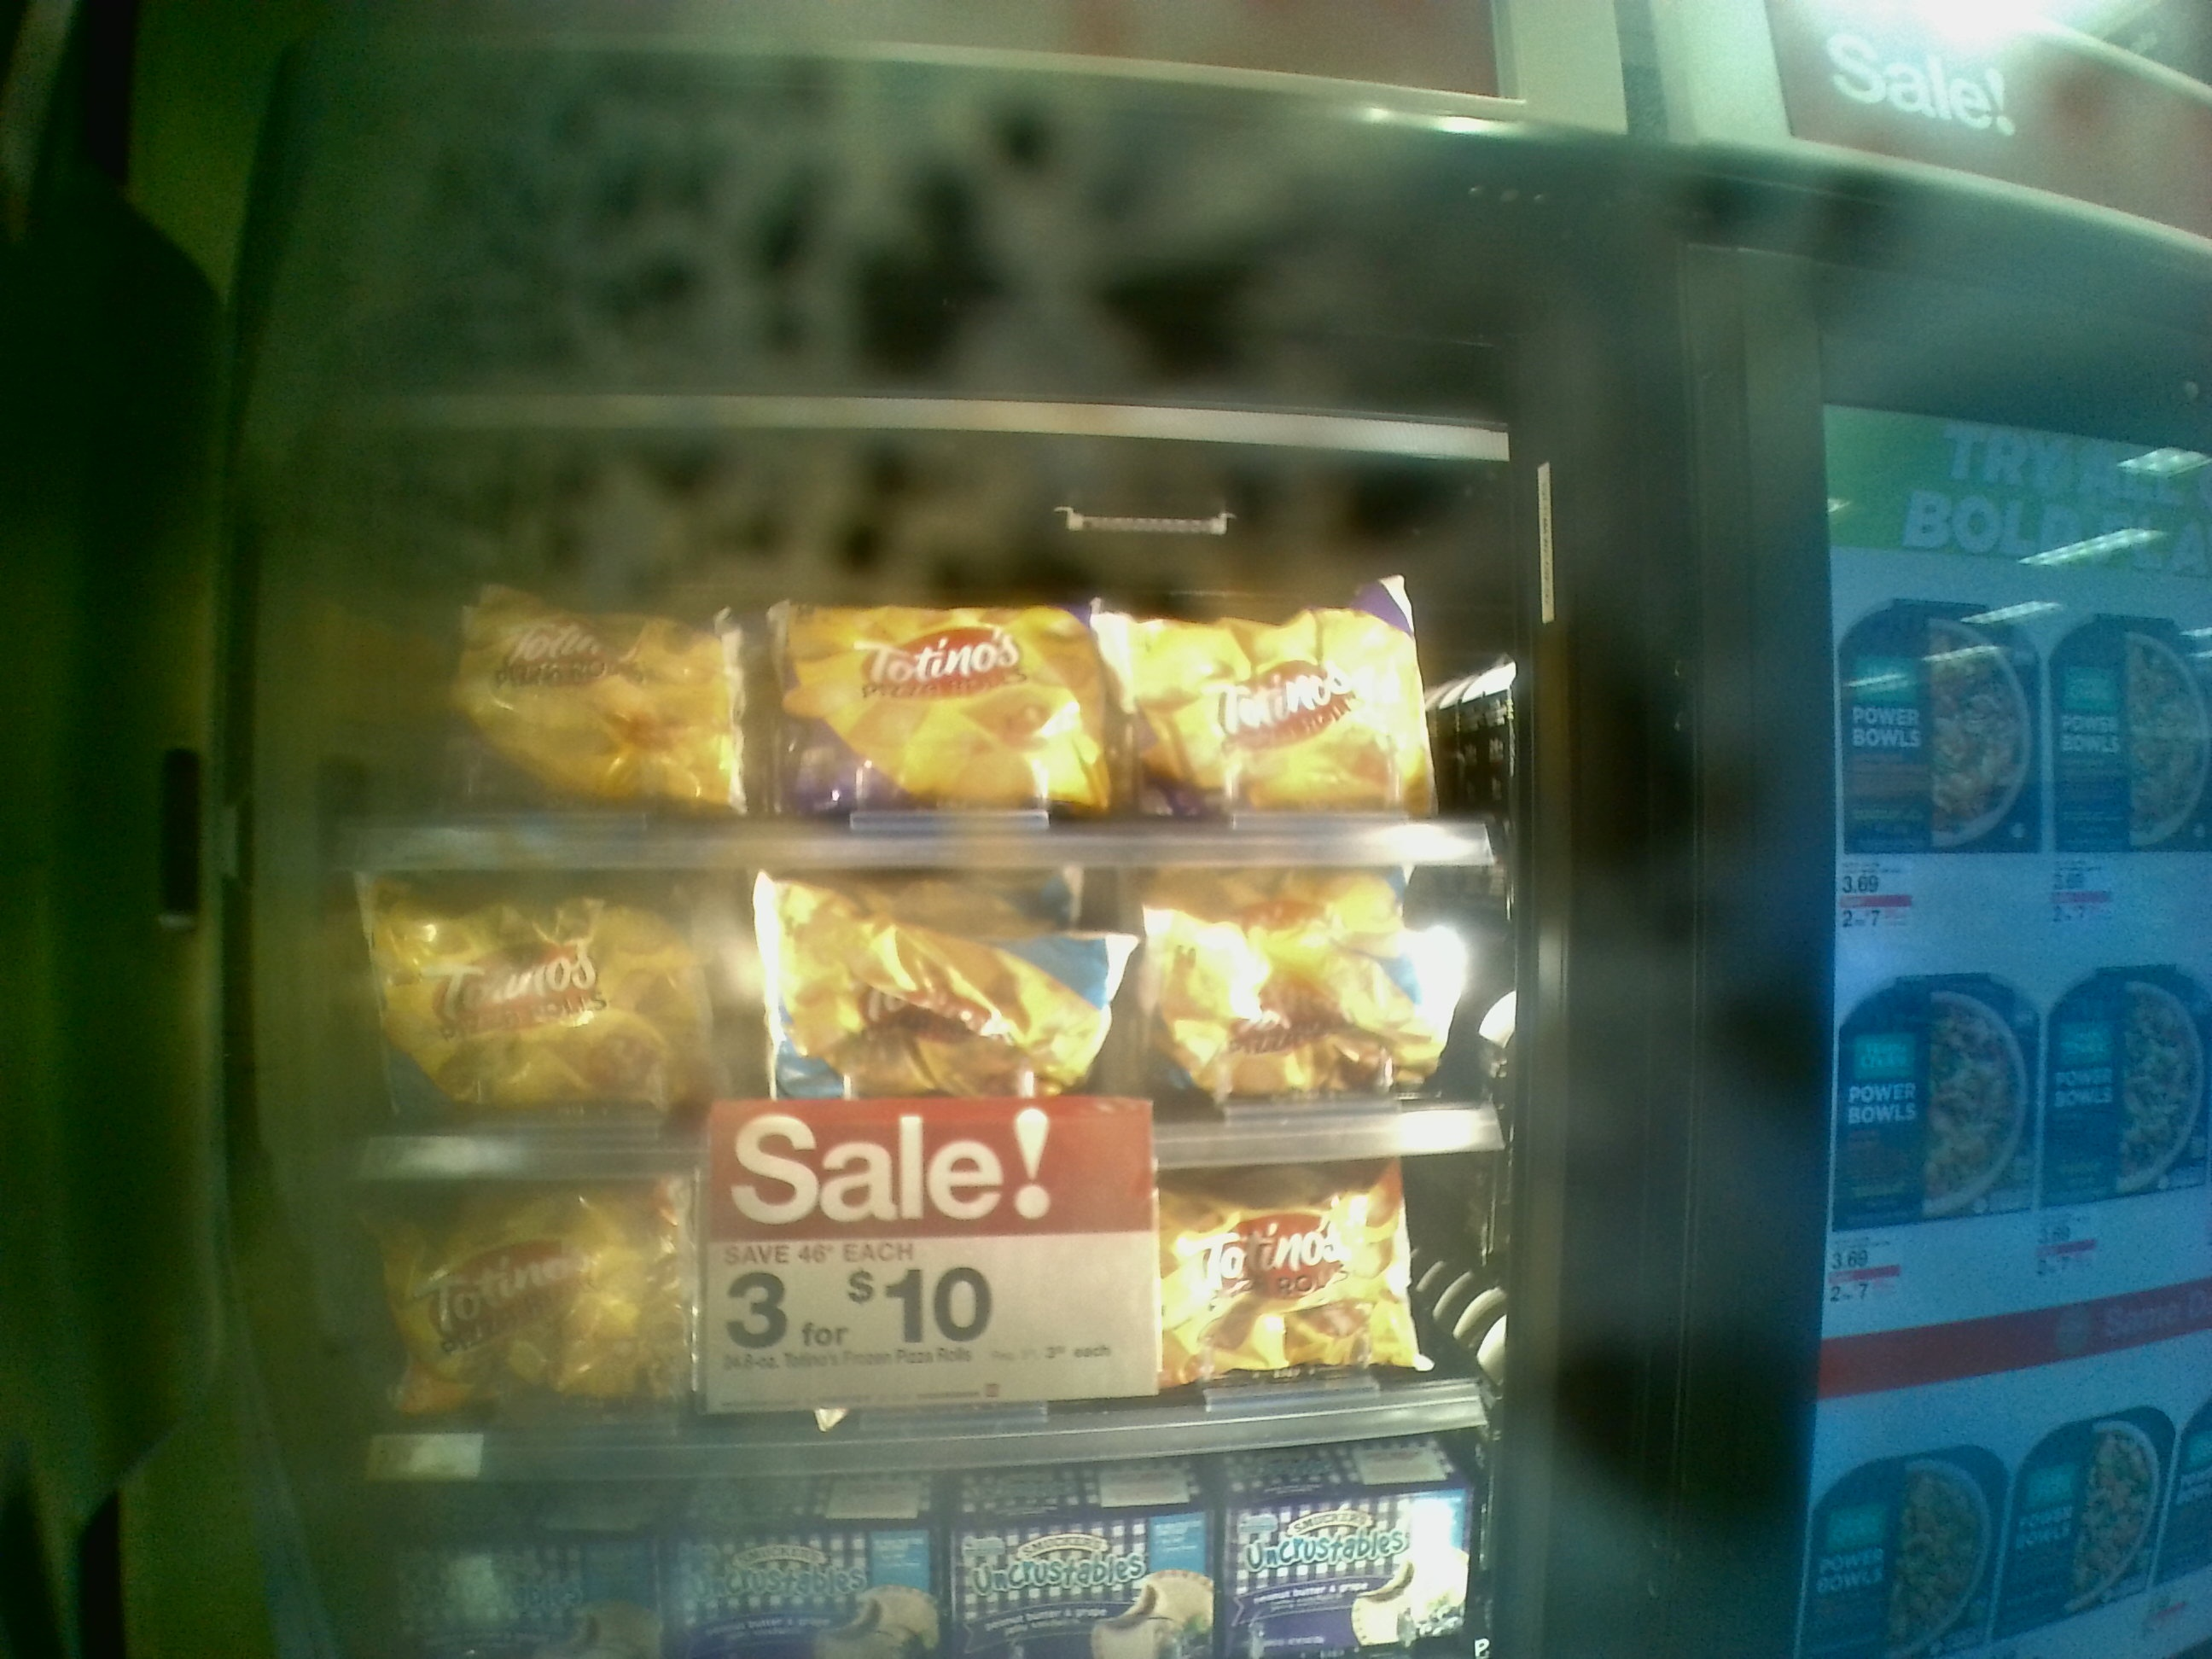shelf: (291, 457, 1519, 871), (308, 873, 1508, 1169), (317, 1176, 1498, 1452)
